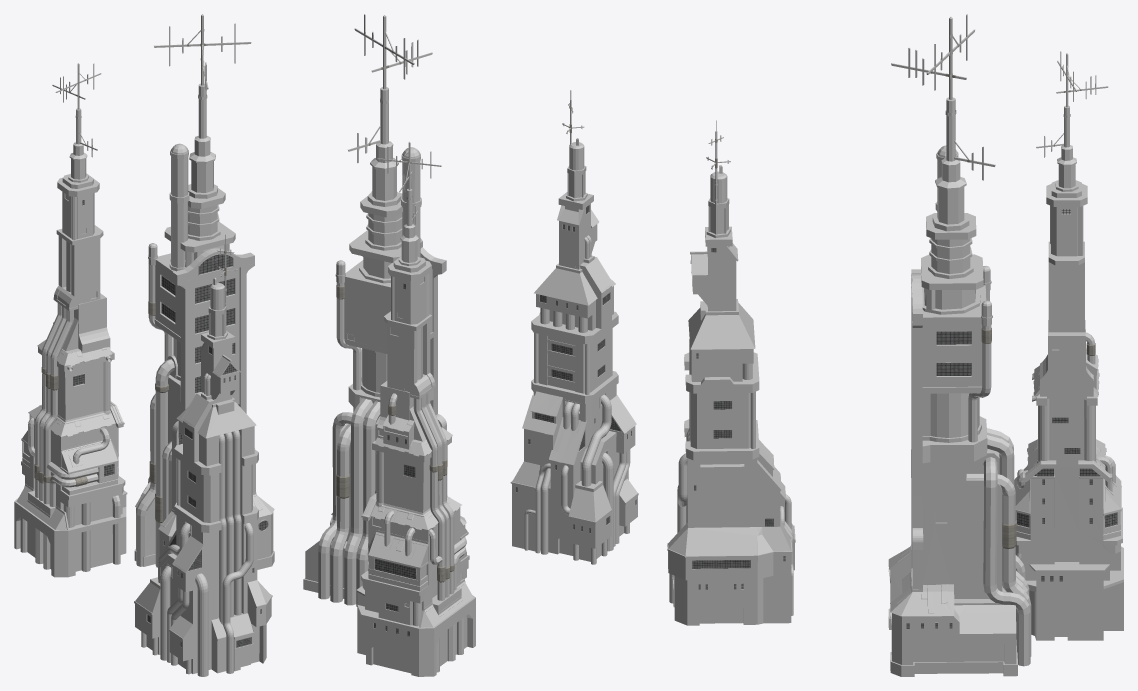
Rendered from CommonBuilding_Ca_Distant.fbx.
3 views of the same model, side by side, from view 1: azimuth 30°, elevation 25°; view 2: azimuth 150°, elevation 25°; view 3: azimuth 270°, elevation 25° (orthographic). The views are drawn at different scales.
Visible parts, largest first — view 1: SM_ENV_AMVLLG02_CommonBuilding_Ca_Distant.mo; view 2: SM_ENV_AMVLLG02_CommonBuilding_Ca_Distant.mo; view 3: SM_ENV_AMVLLG02_CommonBuilding_Ca_Distant.mo.
Boxes of the visible parts, x1,y1,x2,y2 form: SM_ENV_AMVLLG02_CommonBuilding_Ca_Distant.mo: [14, 14, 274, 676]; SM_ENV_AMVLLG02_CommonBuilding_Ca_Distant.mo: [303, 14, 638, 676]; SM_ENV_AMVLLG02_CommonBuilding_Ca_Distant.mo: [667, 14, 1123, 676].
Size of the model in its own units: 4125 by 11766 by 7538.
